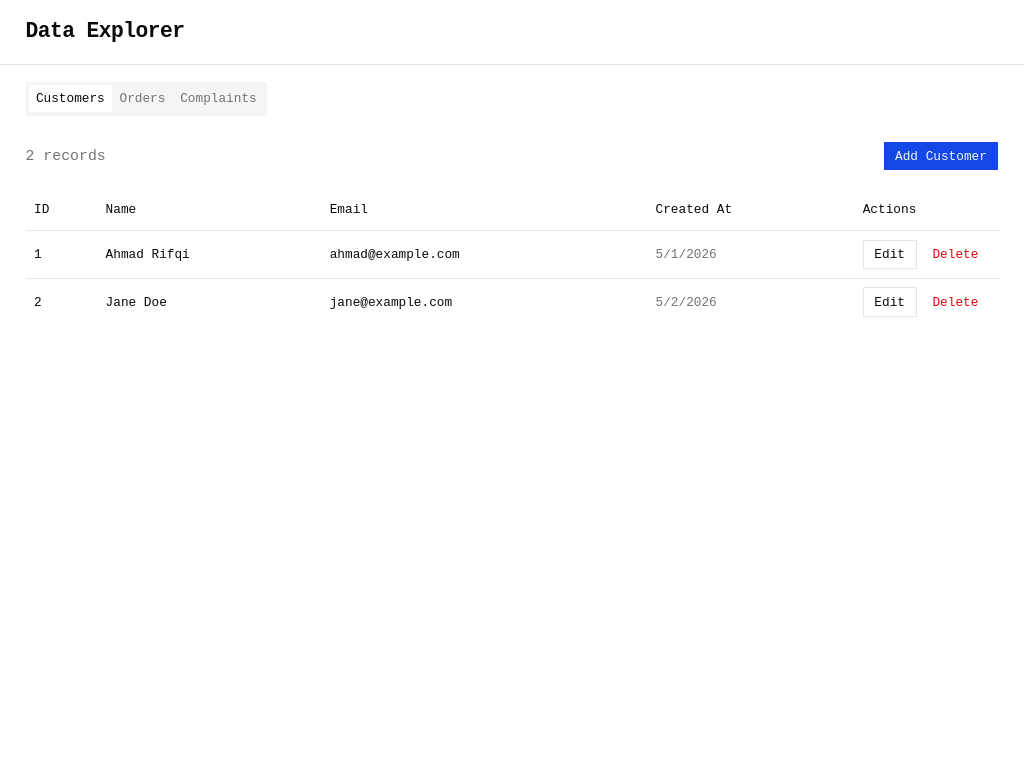
Test: DataPage Customers CRUD › adds a new customer via dialog and refreshes the table
This screenshot has width=1024, height=768.
Check: the text "Ahmad Rifqi" is shown, box [97,230,321,278]
Click the button "Add Customer" at (941, 156), box [883,141,998,171]
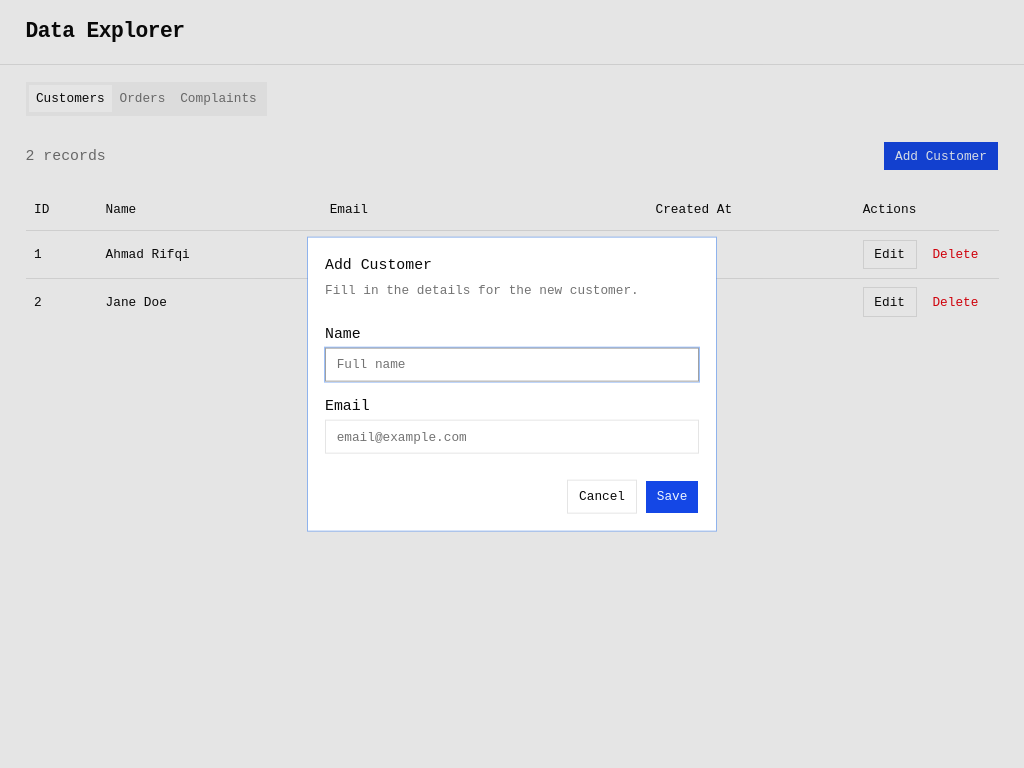
Type "Charlie Brown" into the field labelled "Name" at (512, 365), box [325,348,699,382]
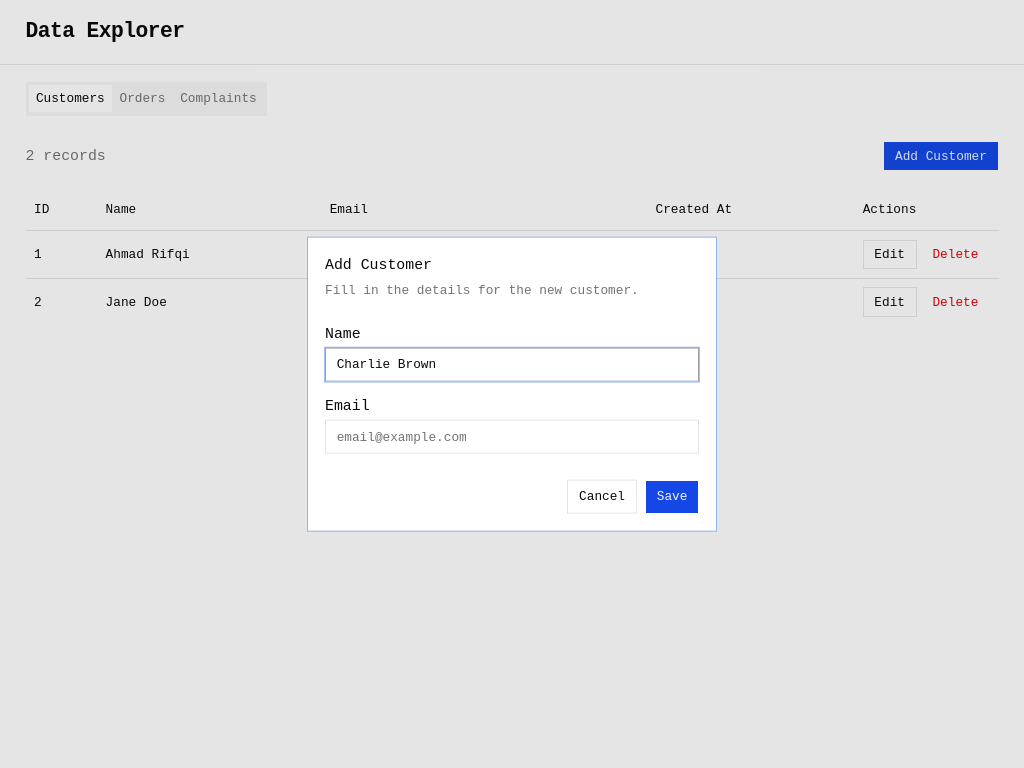
Type "charlie@example.com" into the field labelled "Email" at (512, 437), box [325,420,699,454]
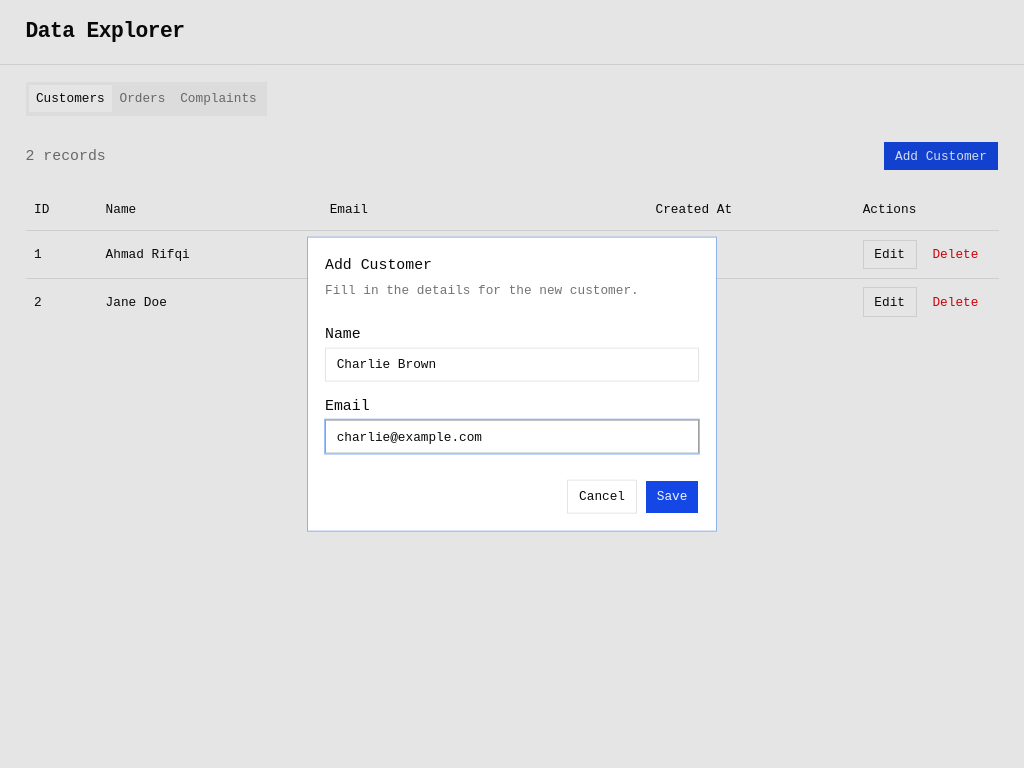
Click the button "Save" at (672, 496), box [645,479,699,513]
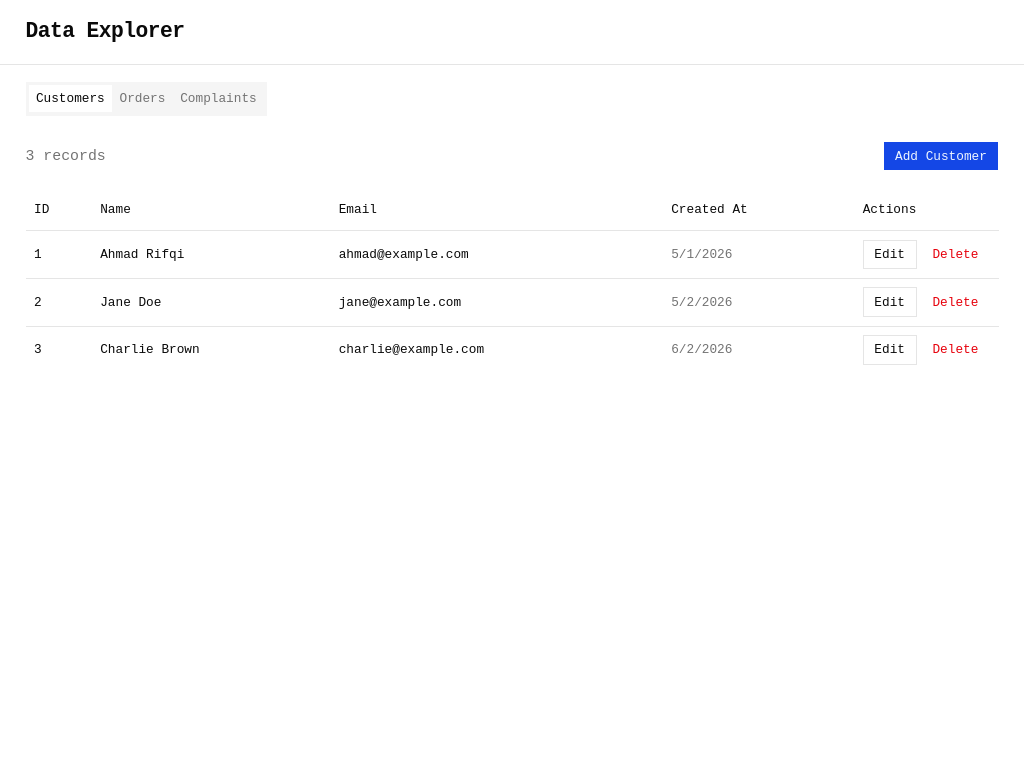
Check: the text "Charlie Brown" is shown, box [92,326,330,373]
Check: the text "charlie@example.com" is shown, box [330,326,663,373]
